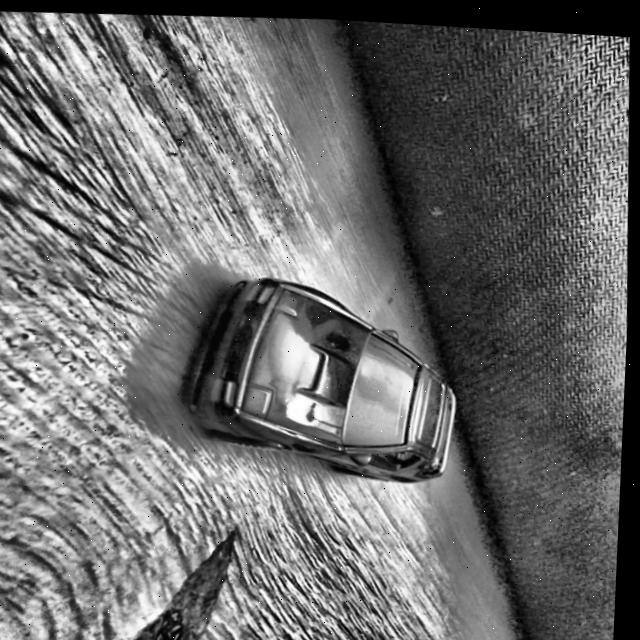car: (182, 263, 467, 487)
